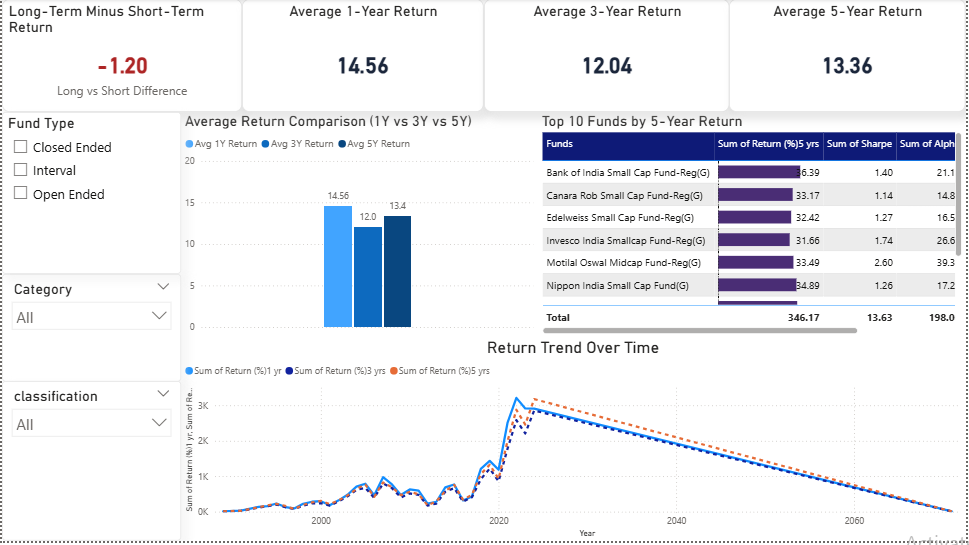

The page's visual inventory and layout, read from the dashboard file:
{"tool":"powerbi","page":{"name":"Performance_Dashboard","canvas":[1280,720],"ordinal":1},"visuals":[{"type":"clusteredColumnChart","title":"Average Return Comparison (1Y vs 3Y vs 5Y)","fields":{"Y":["cleaned_mutualfund_dataset.Avg 1Y Return","cleaned_mutualfund_dataset.Avg 3Y Return","cleaned_mutualfund_dataset.Avg 5Y Return"]},"box":[238.1,150,473.5,300],"z":0},{"type":"tableEx","title":"Top 10 Funds by 5-Year Return","fields":{"Values":["cleaned_mutualfund_dataset.Funds","Sum(cleaned_mutualfund_dataset.Return (%)5 yrs)","Sum(cleaned_mutualfund_dataset.Sharpe)","Sum(cleaned_mutualfund_dataset.Alpha)","Sum(cleaned_mutualfund_dataset.ExpenseRatio (%))"]},"box":[711.6,150,568.4,300],"z":1000},{"type":"card","title":"Long-Term Minus Short-Term Return","fields":{"Values":["cleaned_mutualfund_dataset.Long vs Short Difference"]},"box":[0,0,319.3,150],"z":2000},{"type":"lineChart","title":"Return Trend Over Time","fields":{"Category":["cleaned_mutualfund_dataset.Inception Date.Variation.Date Hierarchy.Year","cleaned_mutualfund_dataset.Inception Date.Variation.Date Hierarchy.Quarter","cleaned_mutualfund_dataset.Inception Date.Variation.Date Hierarchy.Month","cleaned_mutualfund_dataset.Inception Date.Variation.Date Hierarchy.Day"],"Y":["Sum(cleaned_mutualfund_dataset.Return (%)1 yr)","Sum(cleaned_mutualfund_dataset.Return (%)3 yrs)","Sum(cleaned_mutualfund_dataset.Return (%)5 yrs)"]},"box":[238.1,450.1,1041.9,269.8],"z":3000},{"type":"slicer","fields":{"Values":["cleaned_mutualfund_dataset.Category"]},"box":[0,364.7,238.1,143.1],"z":4000},{"type":"slicer","title":"Fund Type","fields":{"Values":["cleaned_mutualfund_dataset.Fund Type"]},"box":[0,150,238.1,214.7],"z":5000},{"type":"slicer","fields":{"Values":["cleaned_mutualfund_dataset.classification"]},"box":[0,507.9,238.1,212],"z":6000},{"type":"card","title":"Average 1-Year Return","fields":{"Values":["cleaned_mutualfund_dataset.Avg 1Y Return"]},"box":[319.3,0,320.7,150],"z":7000},{"type":"card","title":"Average 3-Year Return","fields":{"Values":["cleaned_mutualfund_dataset.Avg 3Y Return"]},"box":[640,0,326.2,150],"z":8000},{"type":"card","title":"Average 5-Year Return","fields":{"Values":["cleaned_mutualfund_dataset.Avg 5Y Return"]},"box":[966.2,0,313.8,150],"z":9000}]}

Visuals, with their boxes in screenshot pixels (x1, y1, x2, y2), scaled from the page's 1280x720 canvas onto the 969x545 screenshot:
"Average Return Comparison (1Y vs 3Y vs 5Y)" clusteredColumnChart: locate(180, 114, 539, 341)
"Top 10 Funds by 5-Year Return" tableEx: locate(539, 114, 968, 341)
"Long-Term Minus Short-Term Return" card: locate(0, 0, 242, 114)
"Return Trend Over Time" lineChart: locate(180, 341, 968, 544)
slicer - cleaned_mutualfund_dataset.Category: locate(0, 276, 180, 384)
"Fund Type" slicer: locate(0, 114, 180, 276)
slicer - cleaned_mutualfund_dataset.classification: locate(0, 384, 180, 544)
"Average 1-Year Return" card: locate(242, 0, 484, 114)
"Average 3-Year Return" card: locate(484, 0, 731, 114)
"Average 5-Year Return" card: locate(731, 0, 968, 114)
